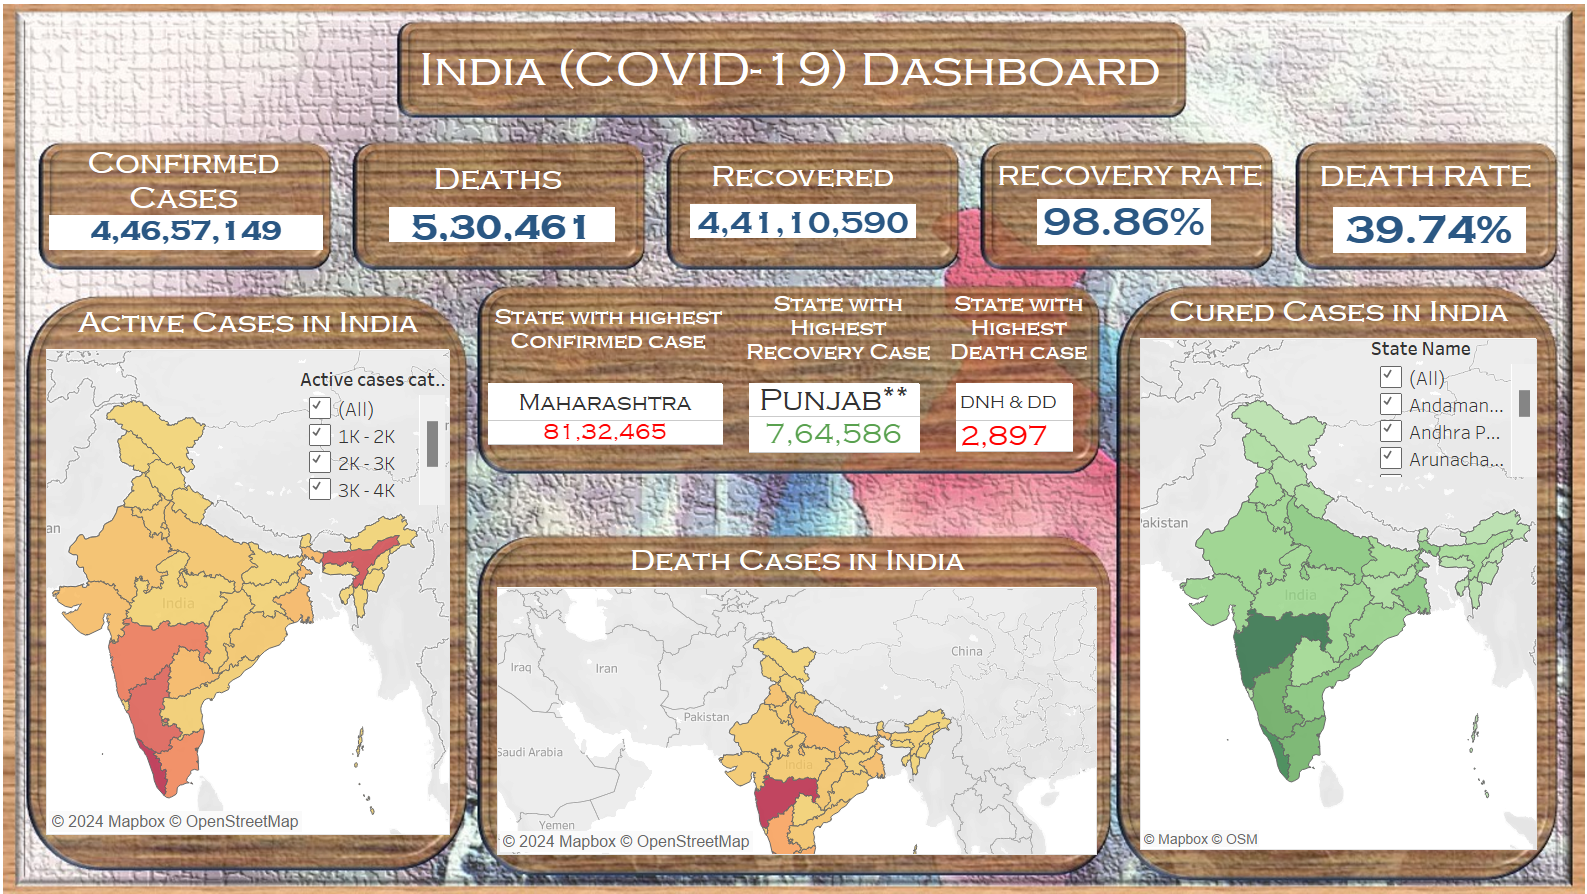

This screenshot's page, from the dashboard's own definition file:
{"tool":"tableau","page":{"name":"Dashboard 1","canvas":[1620,900],"ordinal":0},"visuals":[{"type":"image","param":"E:/covid analysis Project/Presentation1.jpg","box":[1,0,1608,890.2]},{"type":"worksheet","title":"Recovery Rate","mark":"Automatic","box":[1034,143,261,114]},{"type":"worksheet","title":"Confirmed Cases","mark":"Automatic","box":[52,145,257,117]},{"type":"text","box":[1338,149,188,42]},{"type":"worksheet","title":"Deaths ","mark":"Automatic","box":[387,153,239,114]},{"type":"text","box":[988,157,280,31]},{"type":"worksheet","title":"Death Rate","mark":"Automatic","box":[1331,188,199,61]},{"type":"worksheet","title":"Cured Cases in India","mark":"Automatic","box":[1138,287,397,559]},{"type":"worksheet","title":"Active Cases in India","mark":"Multipolygon","box":[44,298,404,533]},{"type":"filter","title":"Cured Cases in India","param":"[federated.0f7trgw0iik8n71eogmae1boljcq].[none:State Name:nk]","box":[1369,331,166,142]},{"type":"filter","title":"Active Cases in India","param":"[federated.0f7trgw0iik8n71eogmae1boljcq].[none:Calculation_1567534206961856513:n","box":[298,362,145,139]},{"type":"worksheet","title":"Death Cases in India","mark":"Automatic","box":[495,536,600,315]}]}

Visuals, with their boxes in screenshot pixels (x1, y1, x2, y2), scaled from the page's 1620x900 canvas onto the 1587x894 screenshot:
image: 1/0/1576/884
"Recovery Rate" worksheet: 1013/142/1269/255
"Confirmed Cases" worksheet: 51/144/303/260
text: 1311/148/1495/190
"Deaths " worksheet: 379/152/613/265
text: 968/156/1242/187
"Death Rate" worksheet: 1304/187/1499/247
"Cured Cases in India" worksheet: 1115/285/1504/840
"Active Cases in India" worksheet (Multipolygon marks): 43/296/439/825
"Cured Cases in India" filter: 1341/329/1504/470
"Active Cases in India" filter: 292/360/434/498
"Death Cases in India" worksheet: 485/532/1073/845
